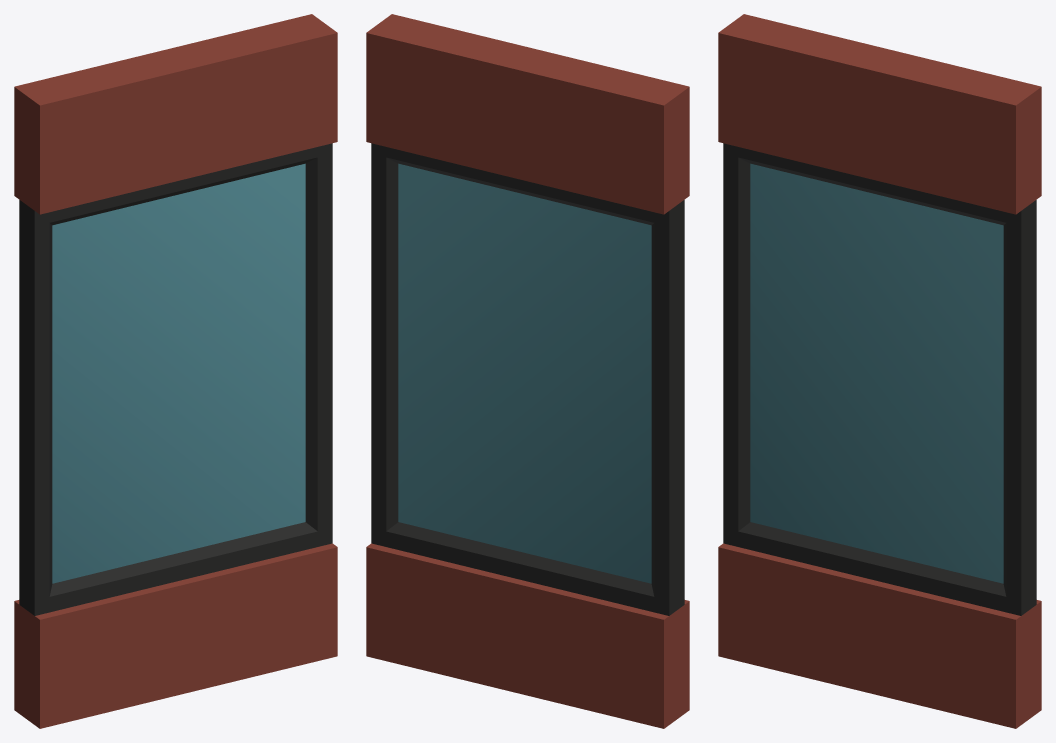
File: trimWindowShort.fbx
The picture shows the model from 3 angles, left to right: view 1: azimuth 30°, elevation 25°; view 2: azimuth 150°, elevation 25°; view 3: azimuth 330°, elevation 25°; orthographic projection.
Visible parts, largest first — view 1: trimWindowShort; view 2: trimWindowShort; view 3: trimWindowShort.
Part boxes in pixels (<box>): trimWindowShort: <box>14,14,337,728</box>; trimWindowShort: <box>366,14,689,728</box>; trimWindowShort: <box>718,14,1041,728</box>.
Bounding box in the file's own units: 200 × 400 × 30.
1 material, 1 textured.
